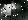person: (2, 6, 11, 19), (12, 3, 17, 10)
